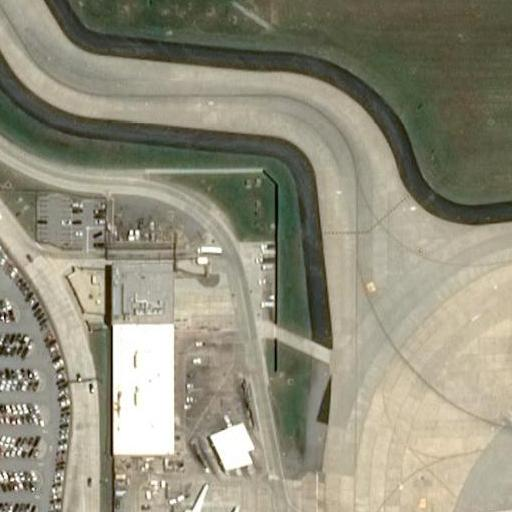Aircraft: (154, 480, 242, 512)
